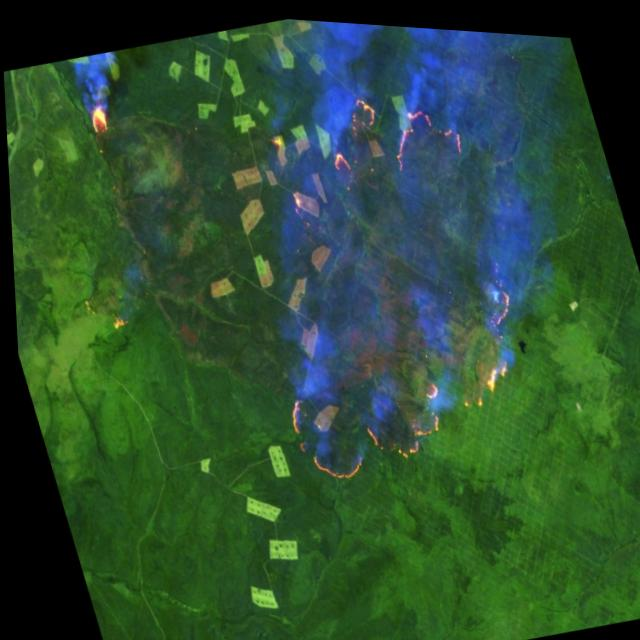fire: (240, 250, 555, 504), (297, 54, 474, 199), (74, 79, 127, 146)
